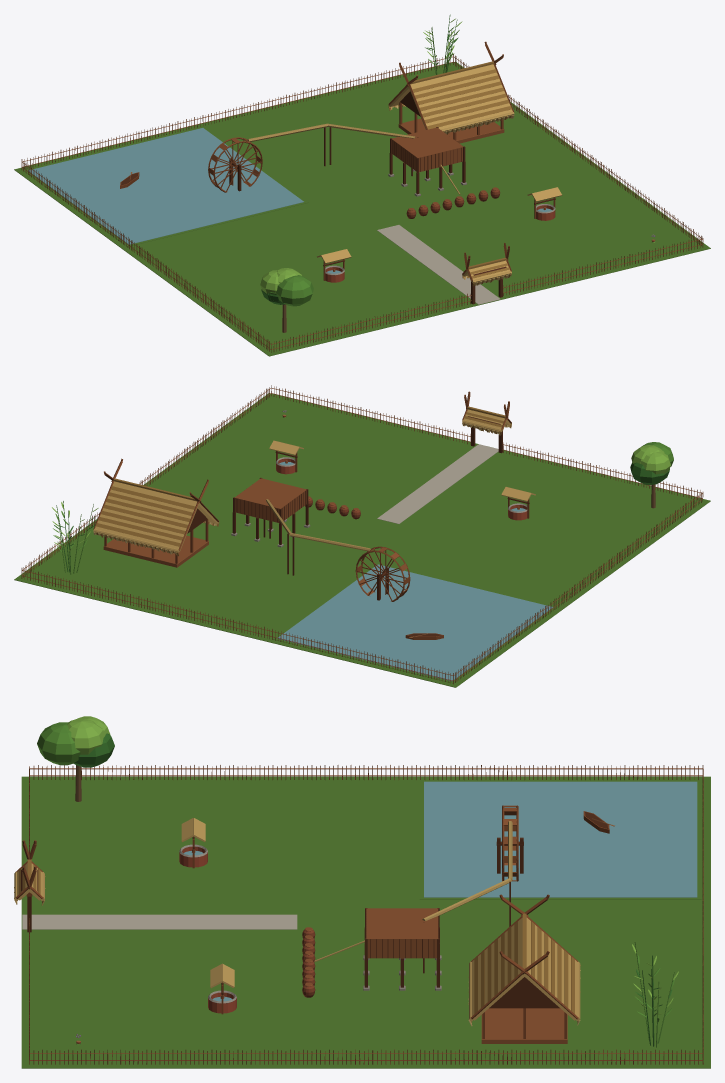
Rendered from water_works.glb.
3 views of the same model, one above another, from view 1: azimuth 30°, elevation 25°; view 2: azimuth 150°, elevation 25°; view 3: azimuth 270°, elevation 25° (orthographic). The views are drawn at different scales.
Visible parts, largest first — view 1: body; view 2: body; view 3: body.
Boxes of the visible parts, box(x1,y1,x2,y2) form: body: box(14, 14, 710, 356); body: box(14, 385, 710, 687); body: box(14, 716, 710, 1068).
Size of the model in its own units: 47.9 by 7.8 by 48.44.
